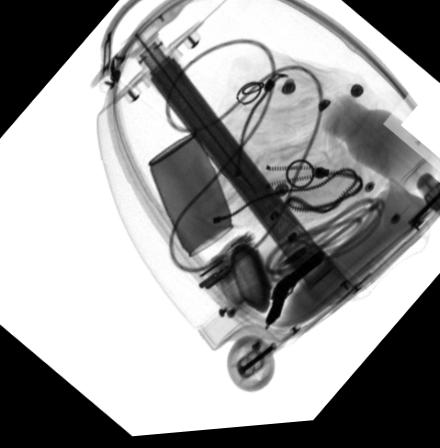Gun: (262, 256, 324, 332)
